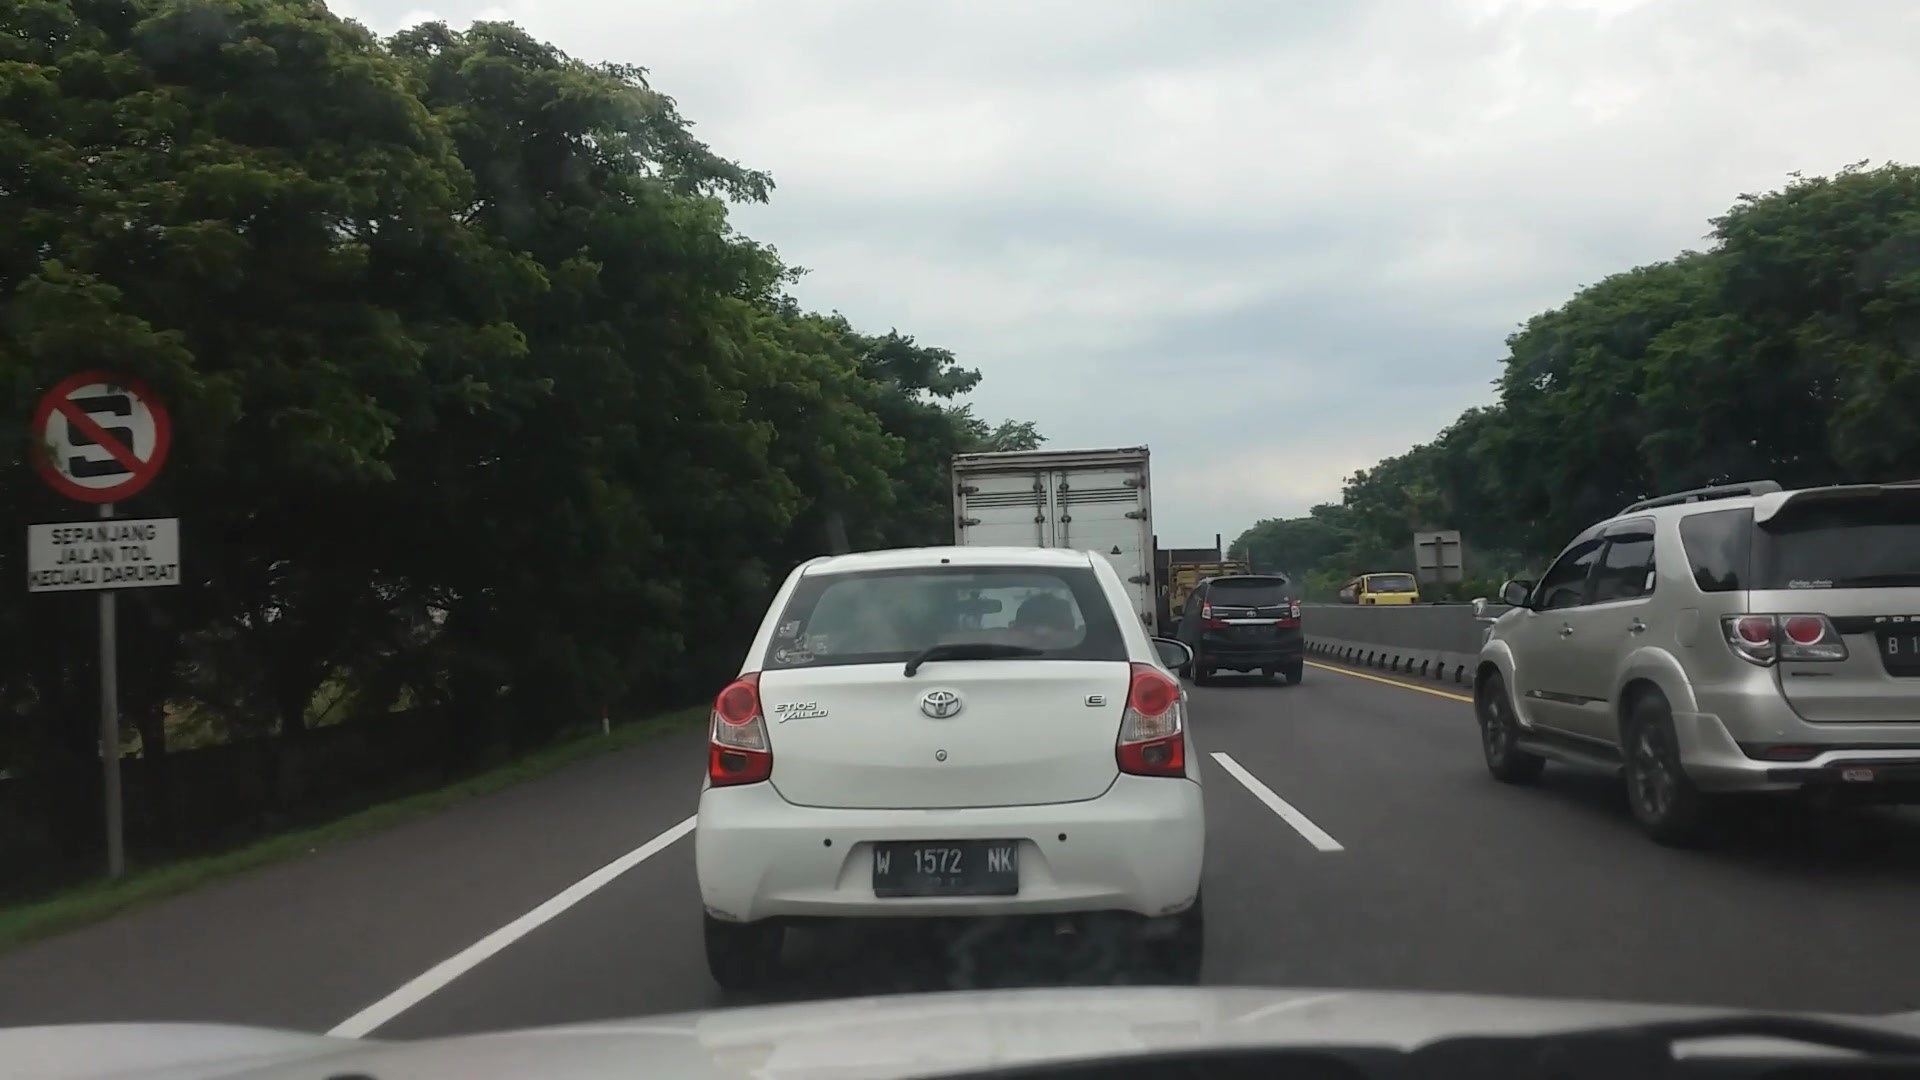plate_positive: (872, 837, 1019, 898)
